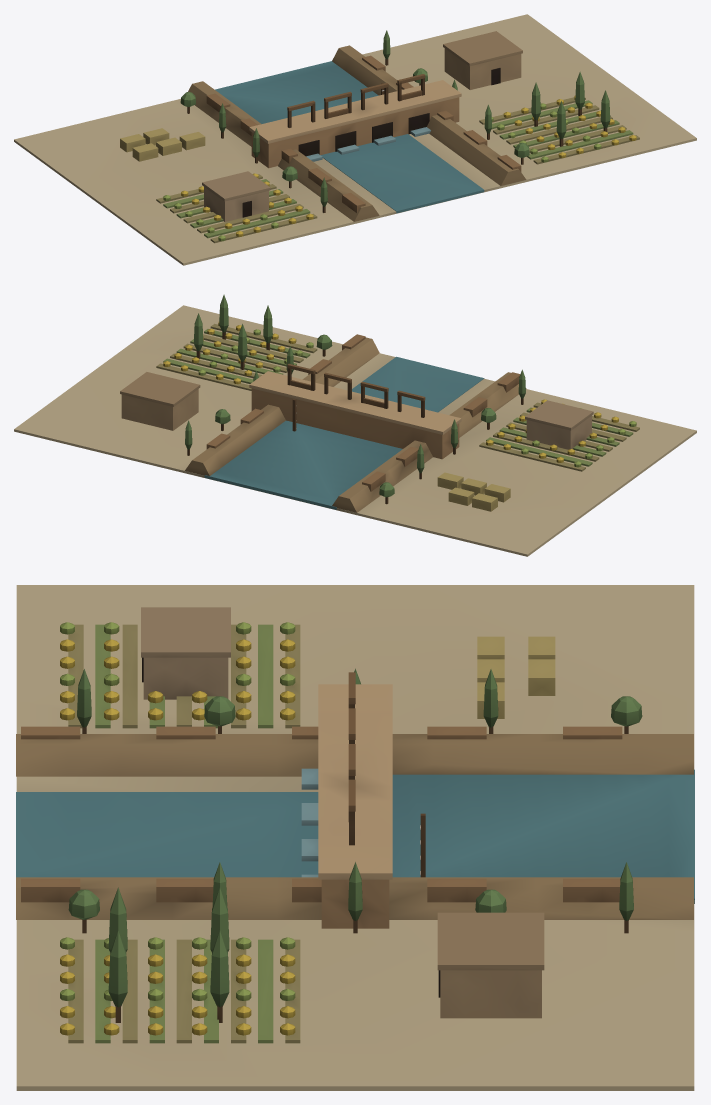
Rendered from majan-dam.glb.
The picture shows the model from 3 angles, top to bottom: view 1: azimuth 30°, elevation 25°; view 2: azimuth 150°, elevation 25°; view 3: azimuth 270°, elevation 25°; orthographic projection. The views are drawn at different scales.
Parts seen in each view (by area): view 1: p0_canal, p1_weir, p2_fields; view 2: p0_canal, p1_weir, p2_fields; view 3: p0_canal, p1_weir, p2_fields.
Boxes of the visible parts, x1,y1,x2,y2 form: p0_canal: (14, 14, 696, 265); p1_weir: (120, 31, 610, 221); p2_fields: (156, 30, 639, 243); p0_canal: (14, 305, 696, 556); p1_weir: (120, 294, 593, 511); p2_fields: (156, 322, 639, 504); p0_canal: (16, 585, 694, 1090); p1_weir: (108, 607, 555, 1022); p2_fields: (21, 622, 642, 1043).
Size of the model in its own units: 70 by 6.63 by 40.06.
